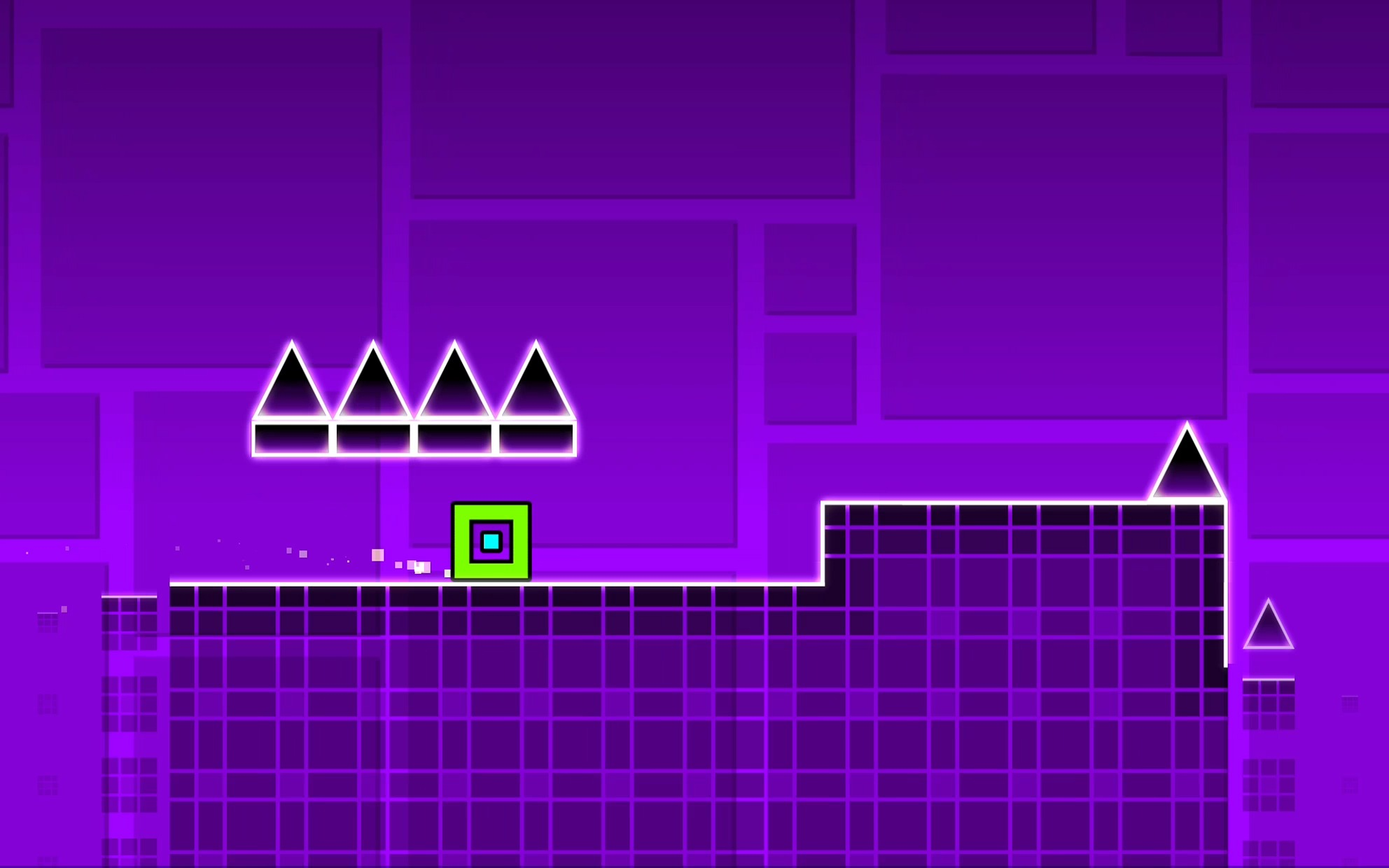Block2: (103, 587, 825, 855), (822, 504, 1226, 868), (1227, 674, 1306, 868)
Block3: (426, 419, 499, 460), (251, 420, 331, 456), (498, 420, 573, 456), (335, 422, 419, 454)
Player: (450, 502, 529, 578)
Spike: (498, 340, 575, 419), (1147, 423, 1224, 501), (253, 341, 330, 418), (418, 340, 491, 416), (336, 340, 409, 416), (1245, 598, 1293, 648)
